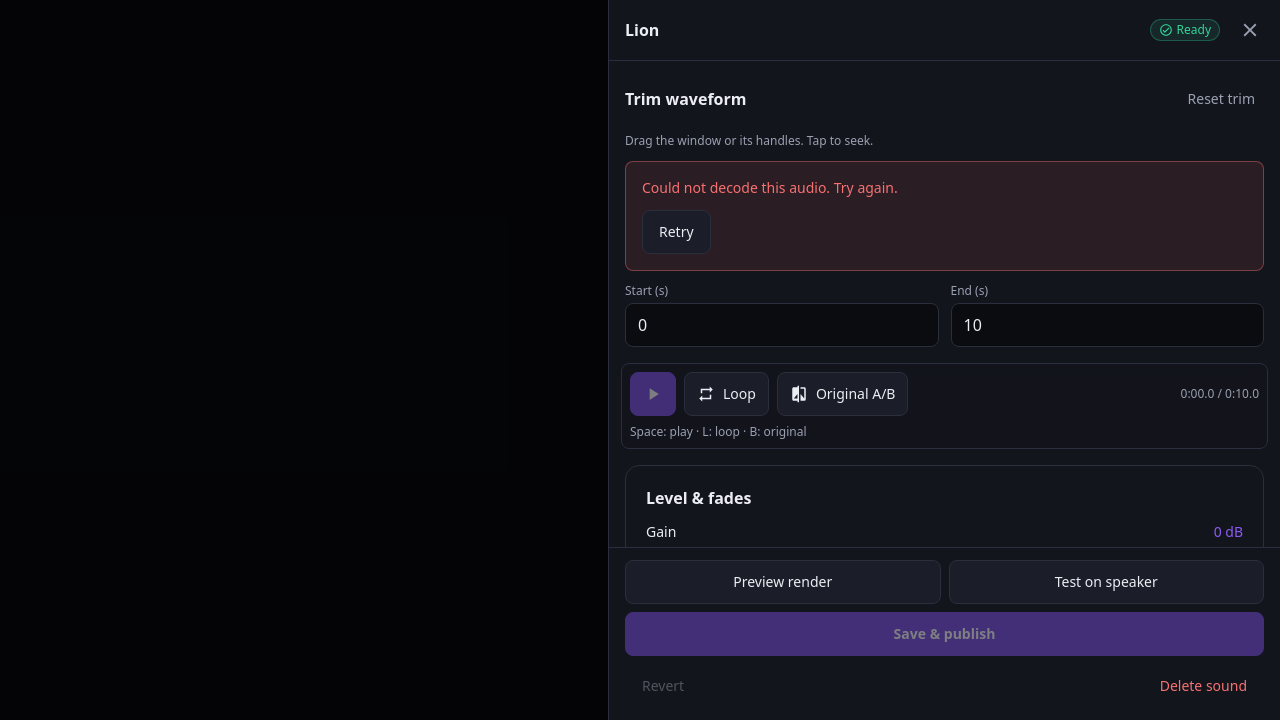
reserves Left/Right for caret movement and Up/Down for nudging
Replace the text in the number field with test id "trim-start" with "1.25" at coordinates (782, 325), box [625,303,938,347]
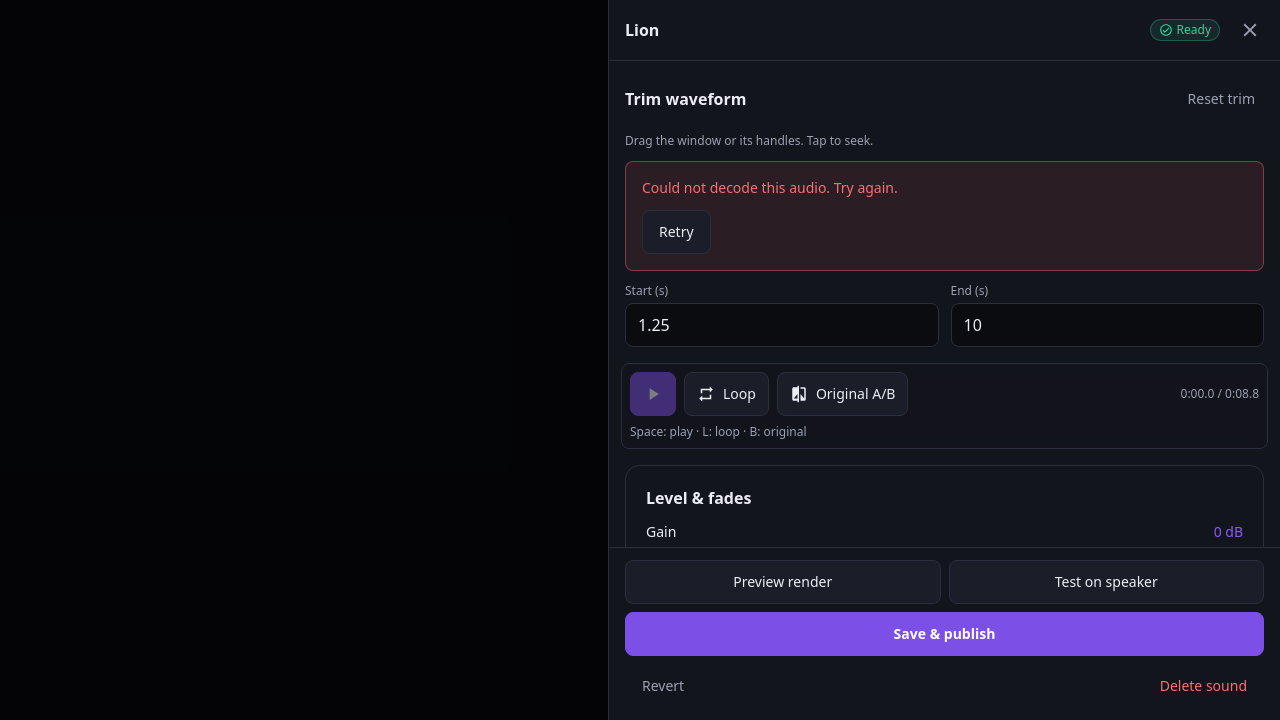
Press ArrowLeft in the number field with test id "trim-start", box [625,303,938,347]
Press ArrowRight in the number field with test id "trim-start", box [625,303,938,347]
Press ArrowDown in the number field with test id "trim-start", box [625,303,938,347]
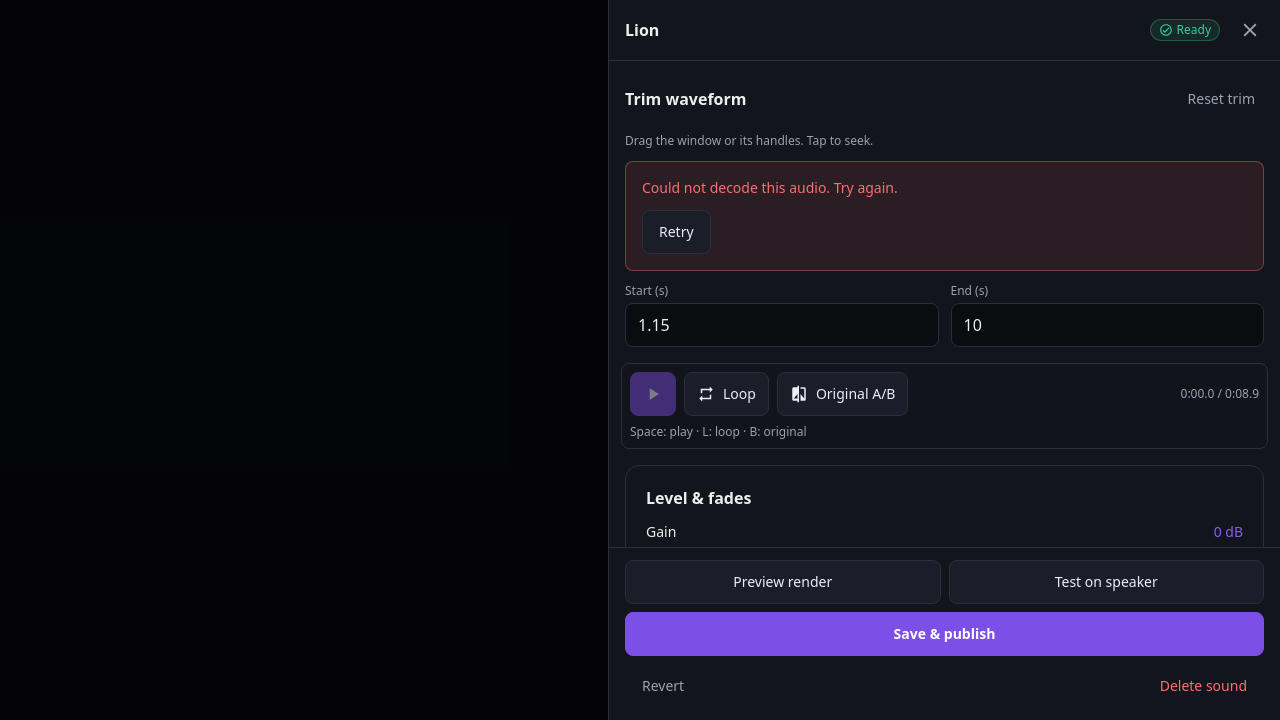
Now the number field with test id "trim-start" holds "1.15", box [625,303,938,347]
